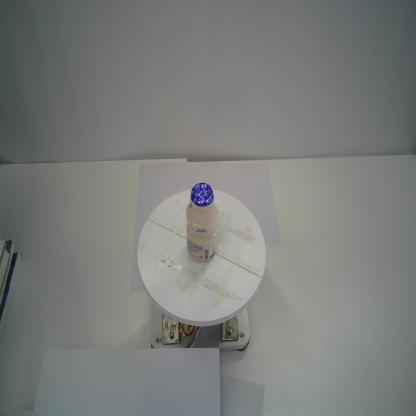Milk: (185, 181, 221, 265)
